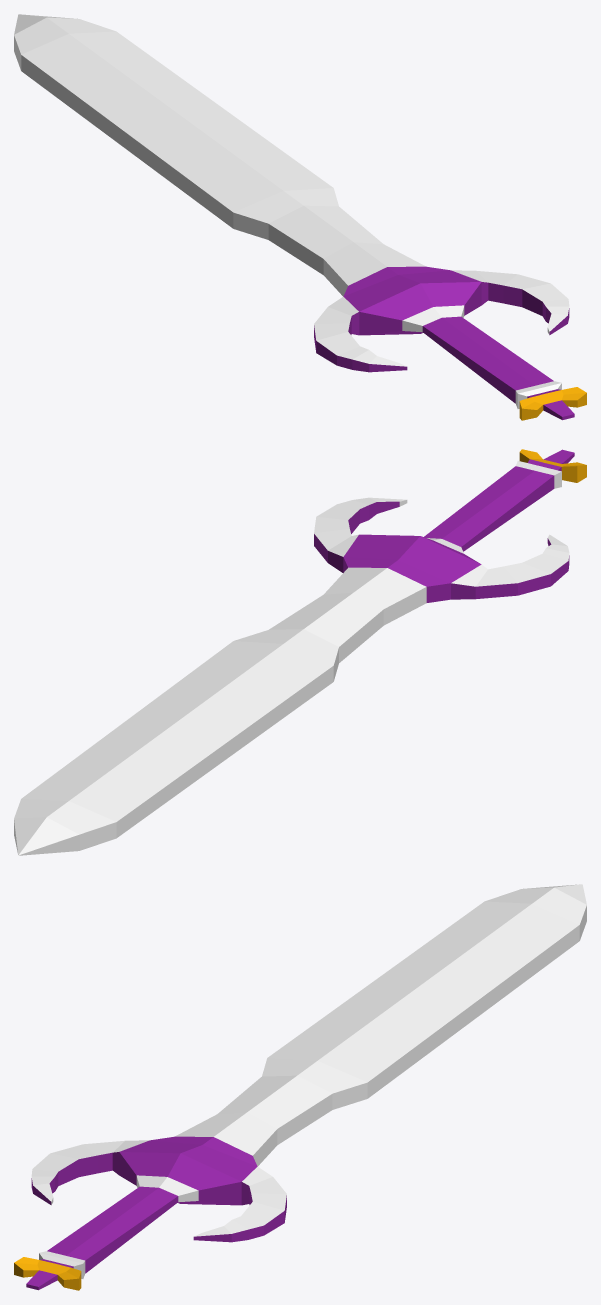
The model's file is 9-Sword.fbx.
3 renders of one model, top to bottom at view 1: azimuth 30°, elevation 25°; view 2: azimuth 150°, elevation 25°; view 3: azimuth 330°, elevation 25°, orthographic.
Parts seen in each view (by area): view 1: Sword9; view 2: Sword9; view 3: Sword9.
Boxes of the visible parts, bbox=[...] form: Sword9: bbox=[14, 14, 586, 420]; Sword9: bbox=[14, 449, 586, 855]; Sword9: bbox=[14, 884, 586, 1290].
Bounding box in the file's own units: 131 × 27.01 × 532.
